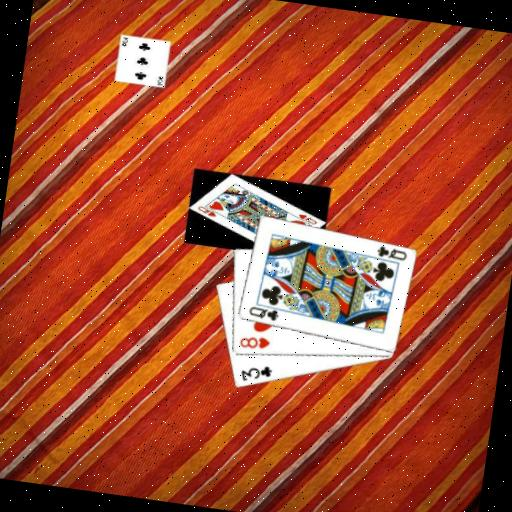3C: (237, 359, 275, 386)
8H: (236, 331, 272, 353)
QC: (373, 242, 409, 263), (245, 303, 281, 323)
